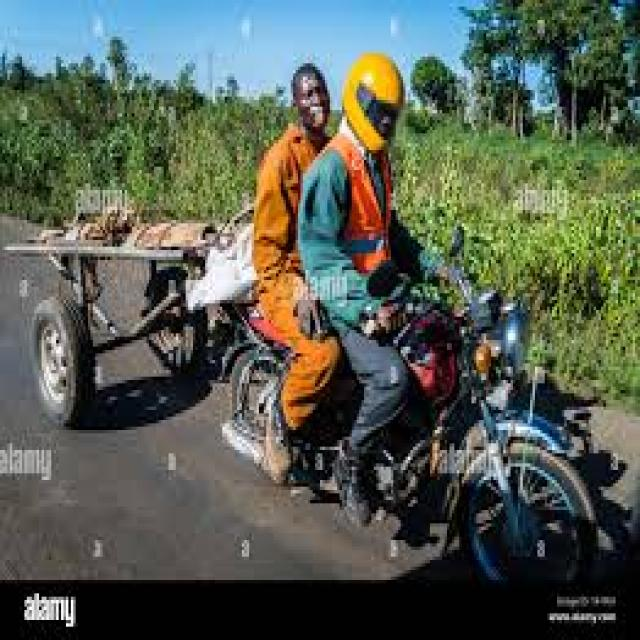bodaboda: (417, 223, 640, 576)
